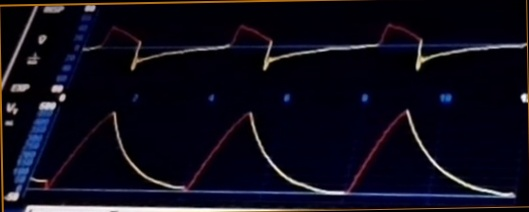Normal Flow: (82, 18, 529, 74)
Normal Volume: (58, 104, 513, 200)
